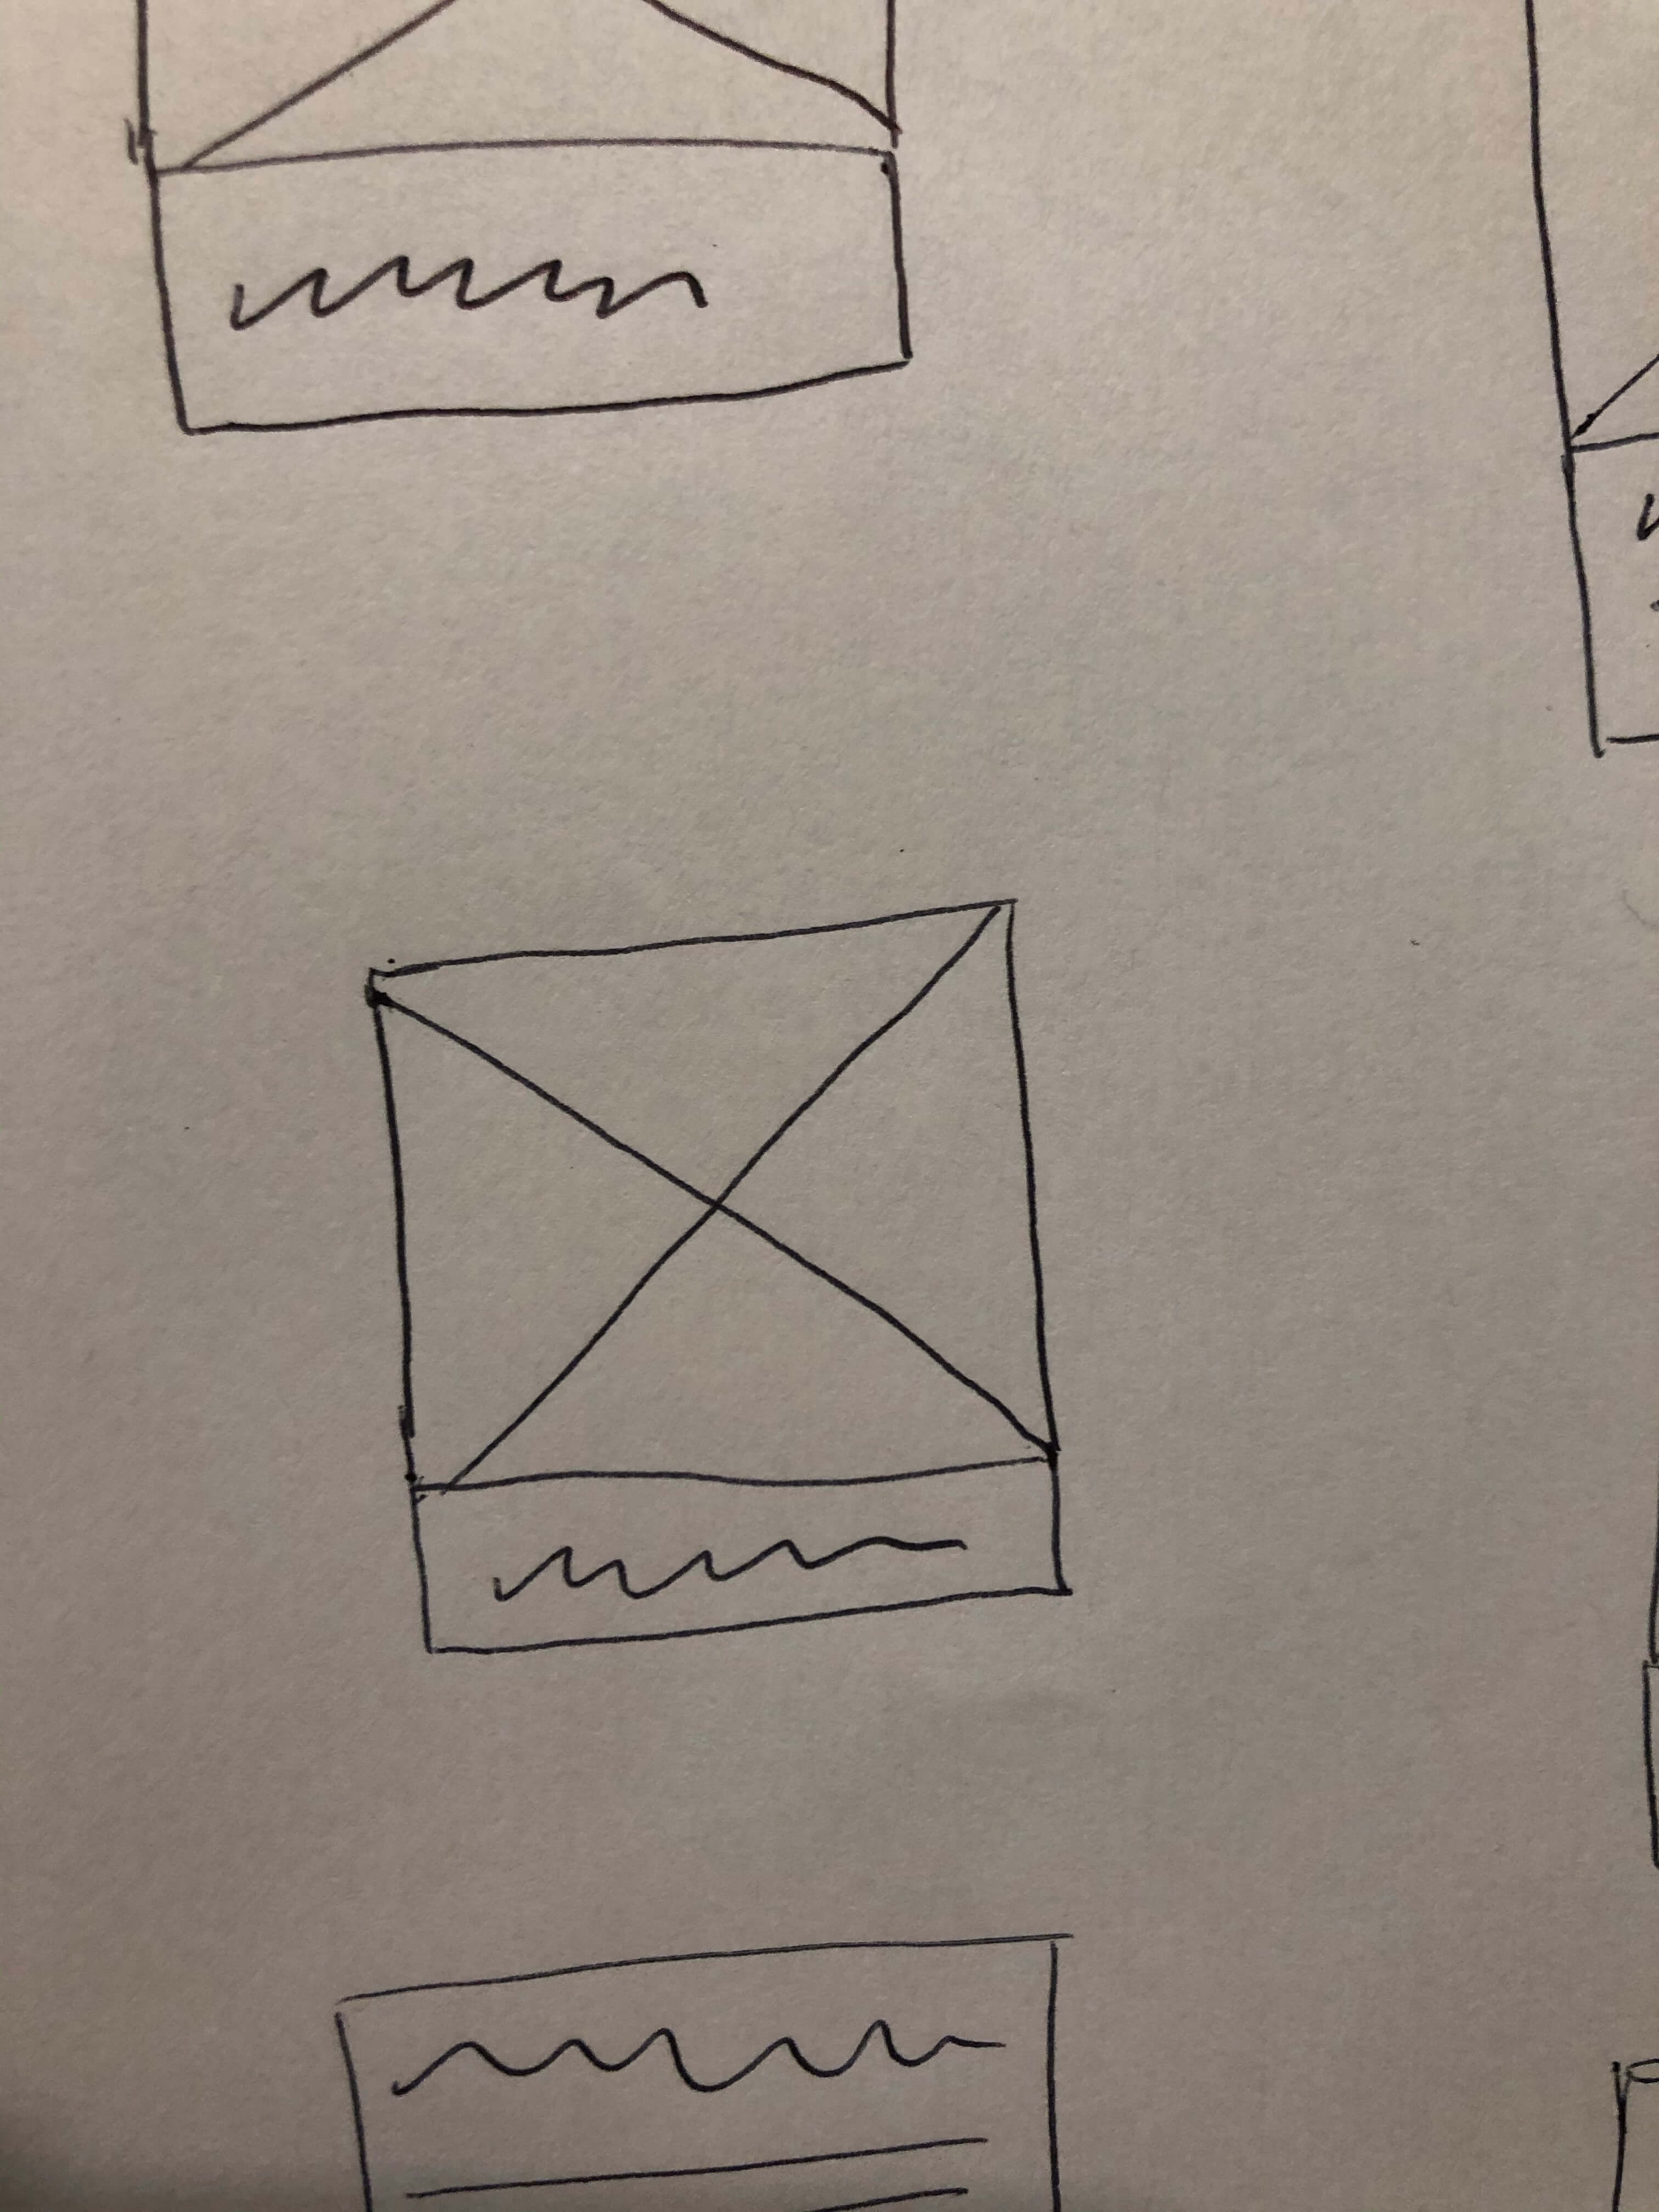card: (349, 878, 1096, 1674)
